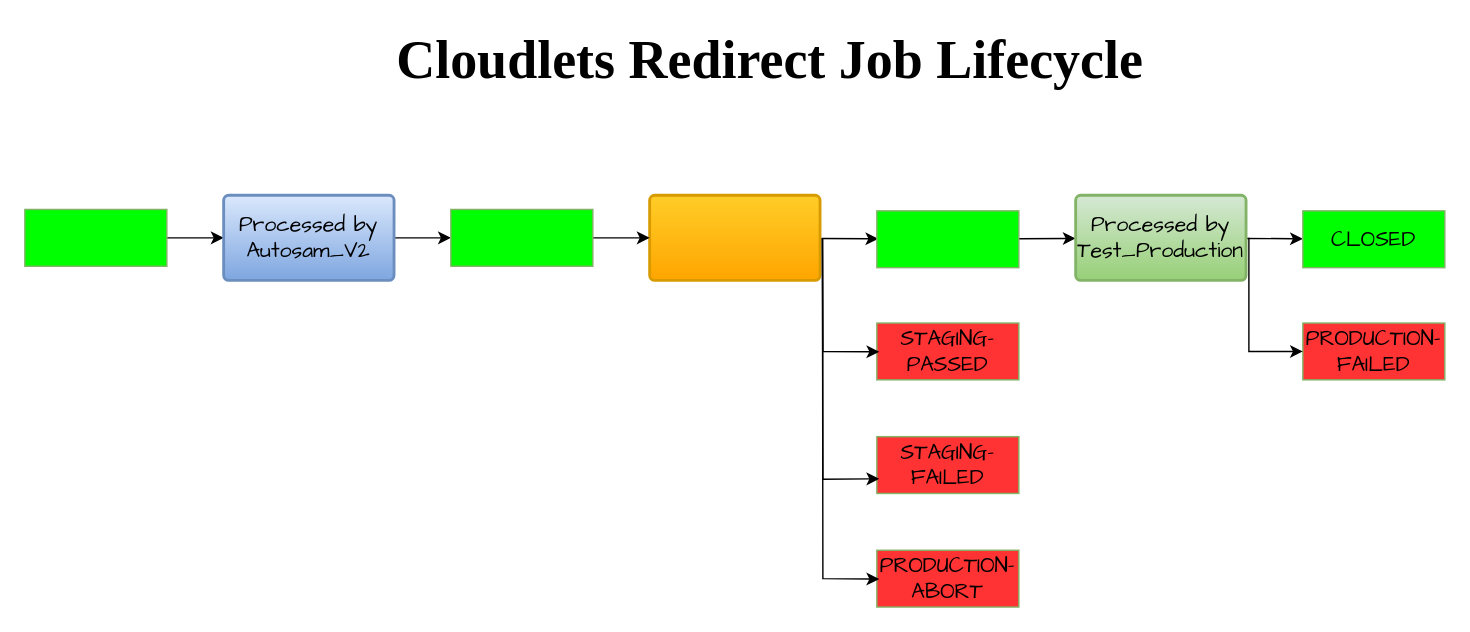
Image size: 1470x632. Some labels were removed from this diagram. Here are the shapes that lost their labels. From the top down, the box of each, then its label:
(23, 208, 167, 266): OPEN
(449, 208, 593, 266): STAGING
(648, 193, 821, 281): Processed by Test_Staging
(875, 209, 1019, 268): PRODUCTION
